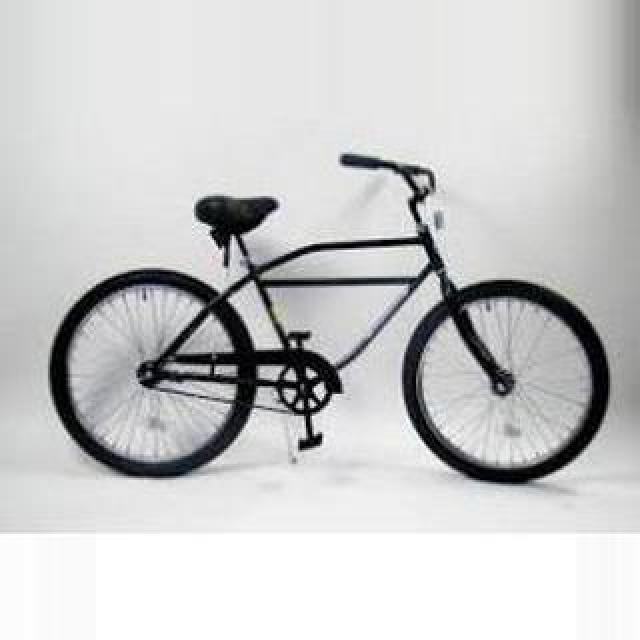Person: (46, 143, 614, 485)
